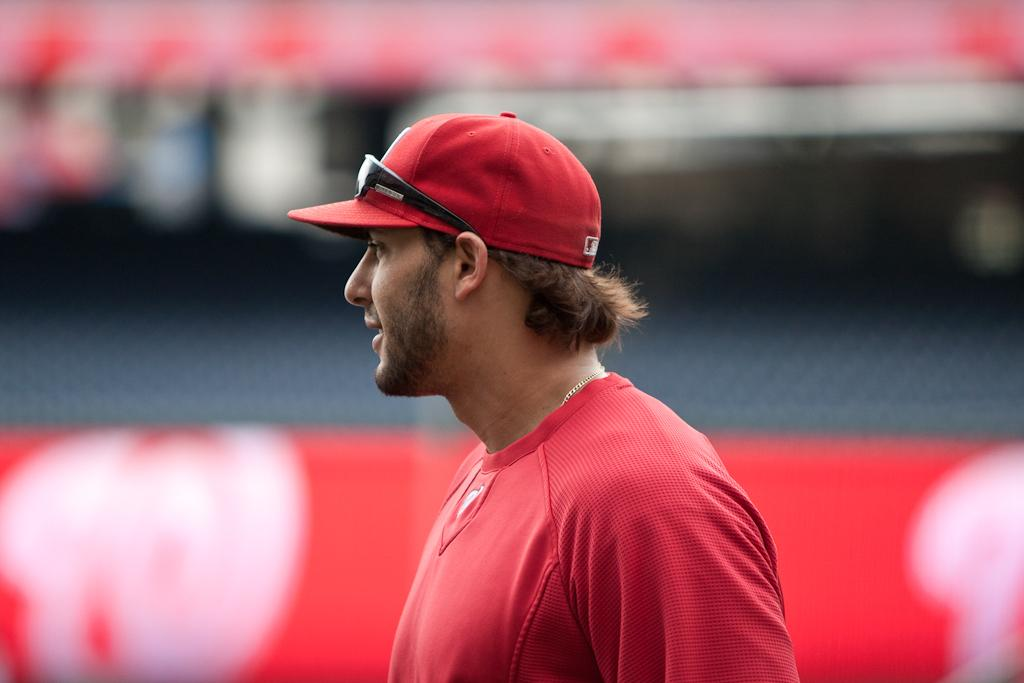Hat: (287, 109, 601, 273)
